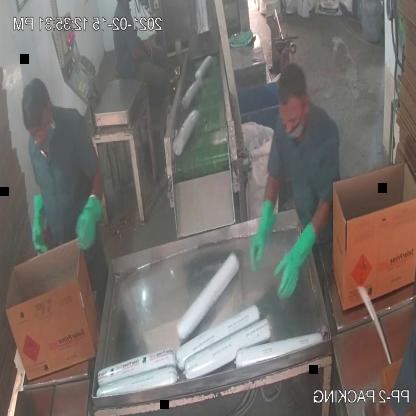glove: (272, 208, 323, 311), (240, 183, 280, 289), (68, 189, 104, 253), (26, 179, 50, 260)
